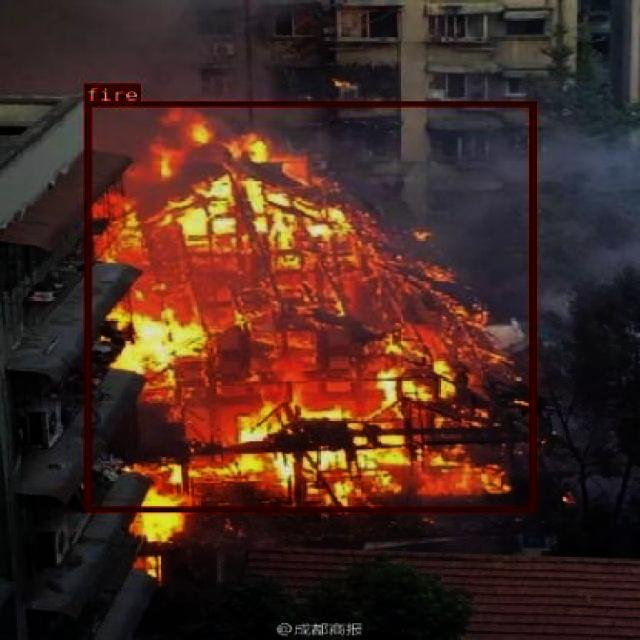fire: (82, 102, 536, 510)
